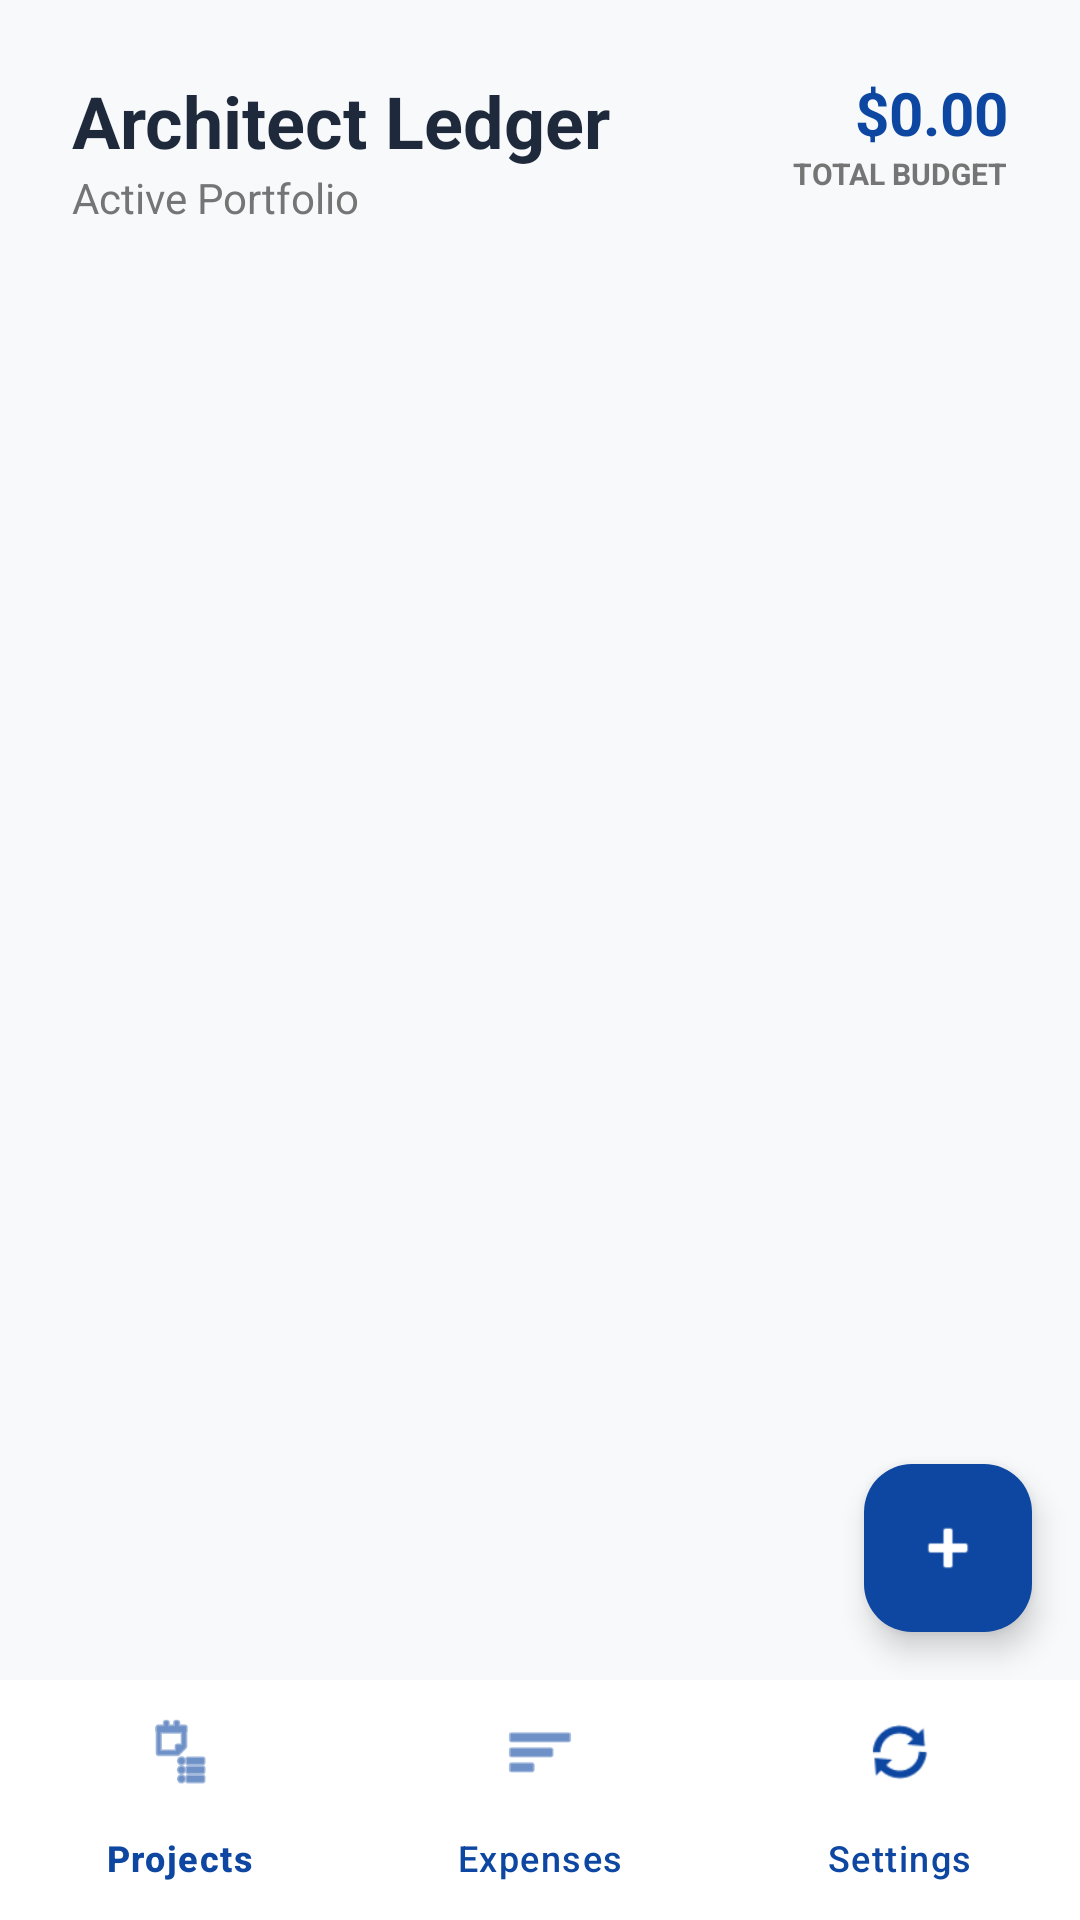

Icon bounding boxes for this 1080×1920 phone screenshot, format (left=x1, top=y1, right=x2, bottom=y2):
add: (left=864, top=1464, right=1032, bottom=1632)
